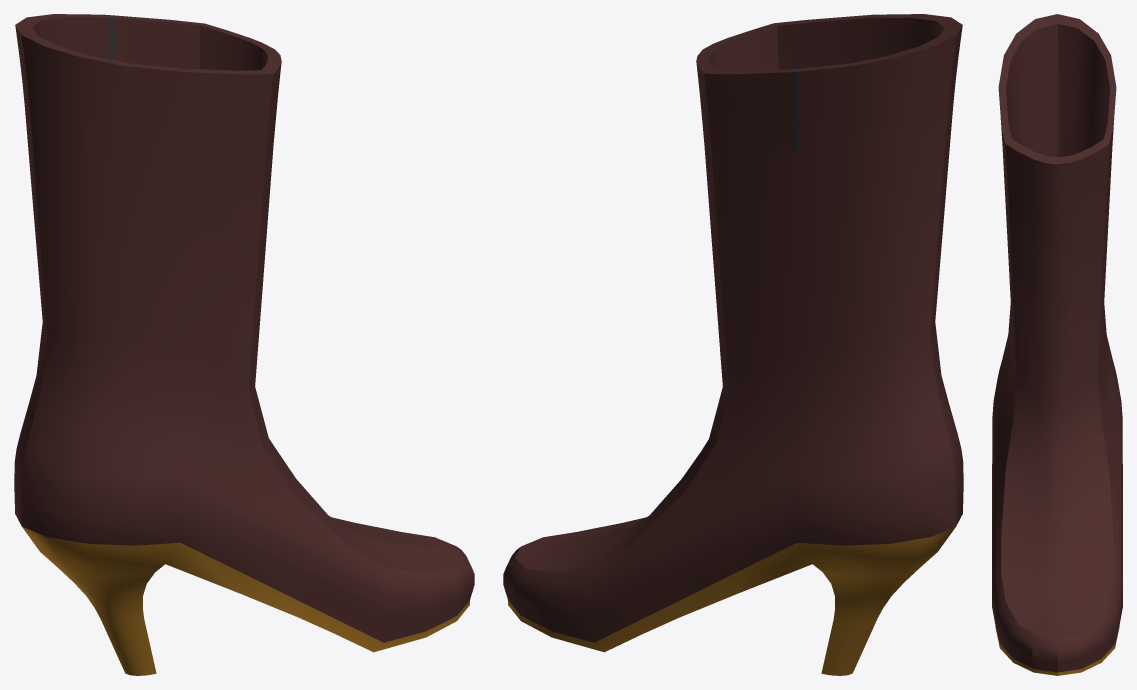
The model's file is Womans_Boot.gltf.
The picture shows the model from 3 angles, left to right: view 1: azimuth 30°, elevation 25°; view 2: azimuth 150°, elevation 25°; view 3: azimuth 270°, elevation 25°; orthographic projection. The views are drawn at different scales.
Parts seen in each view (by area): view 1: Circle.1809; view 2: Circle.1809; view 3: Circle.1809.
Part boxes in pixels (bbox=[...]): Circle.1809: bbox=[14, 14, 474, 675]; Circle.1809: bbox=[503, 14, 963, 675]; Circle.1809: bbox=[992, 14, 1122, 675].
Size of the model in its own units: 1.46 by 2.07 by 0.4922.
